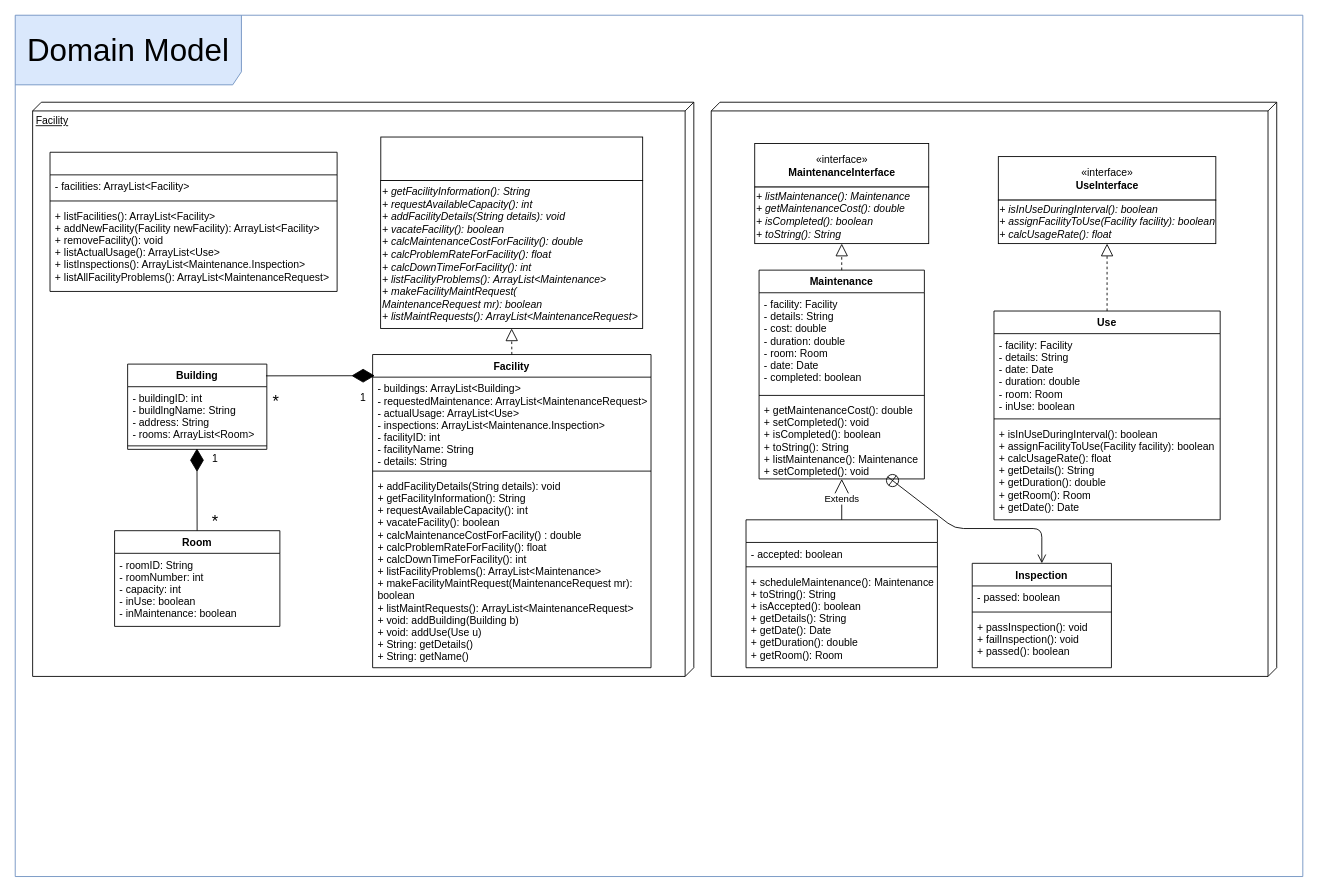
Some shapes in this 1318 by 892 pixel diagram are drawn without their labels. Each missing label, with the box of its shape:
Facility Use and Maintenance: (710, 101, 1277, 676)
FacilityManager: (49, 151, 337, 291)
MaintenanceRequest: (745, 519, 937, 668)
«interface» FacilityInterface: (380, 136, 643, 181)
